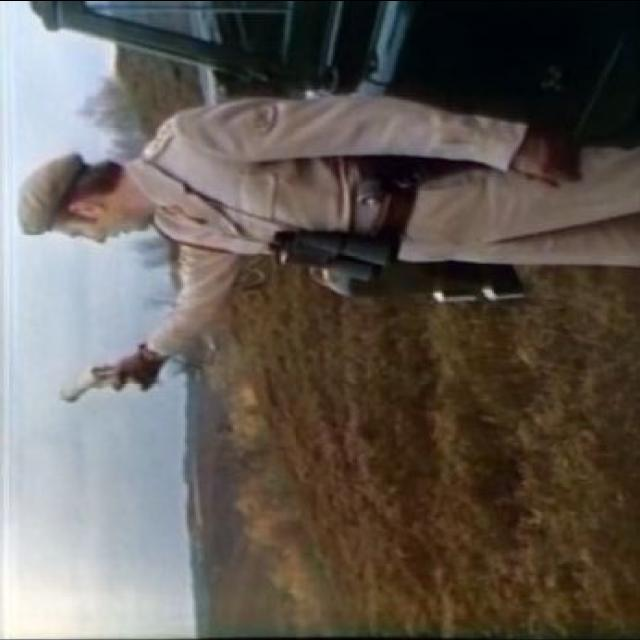weapons: (31, 344, 194, 419)
